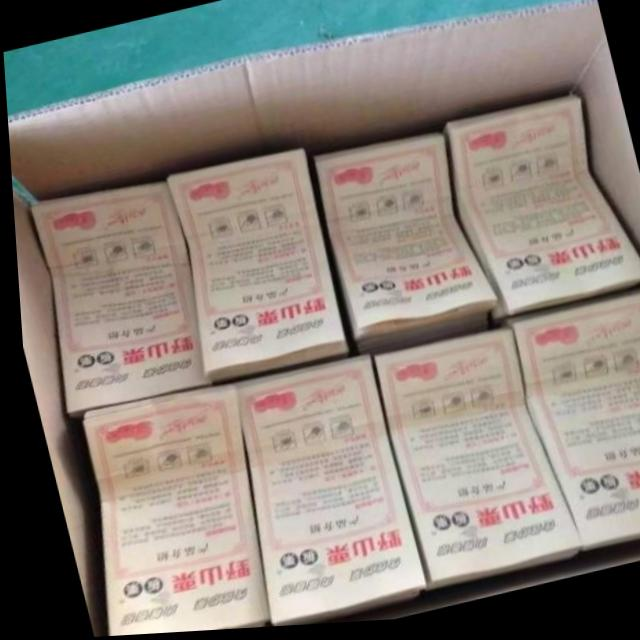box: (6, 6, 640, 638)
